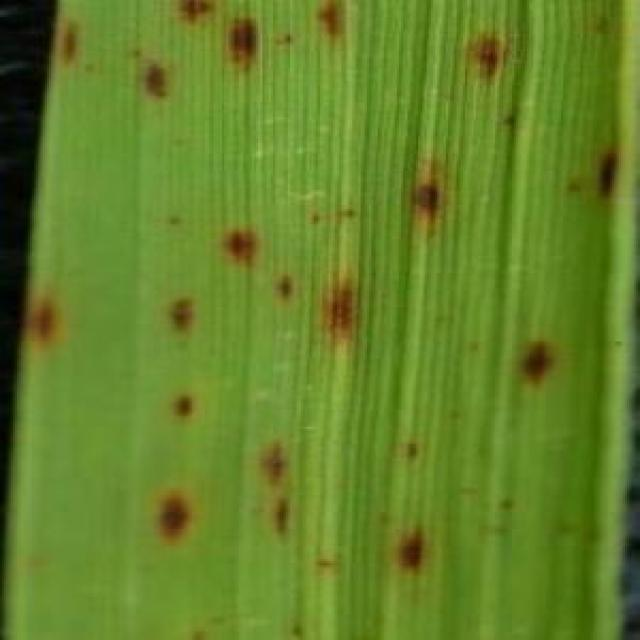brownspots: (392, 512, 458, 574), (398, 158, 456, 226), (324, 273, 376, 344), (578, 134, 623, 213), (130, 42, 186, 102), (147, 484, 205, 540), (467, 23, 510, 92), (215, 220, 269, 269), (307, 2, 356, 49), (256, 438, 297, 490), (520, 335, 562, 384), (28, 284, 62, 339), (162, 286, 196, 340), (391, 429, 444, 463), (275, 266, 314, 312), (232, 14, 262, 72), (59, 17, 88, 75), (298, 201, 362, 226), (268, 496, 308, 534), (162, 388, 199, 422), (177, 2, 216, 30), (276, 28, 294, 51)
